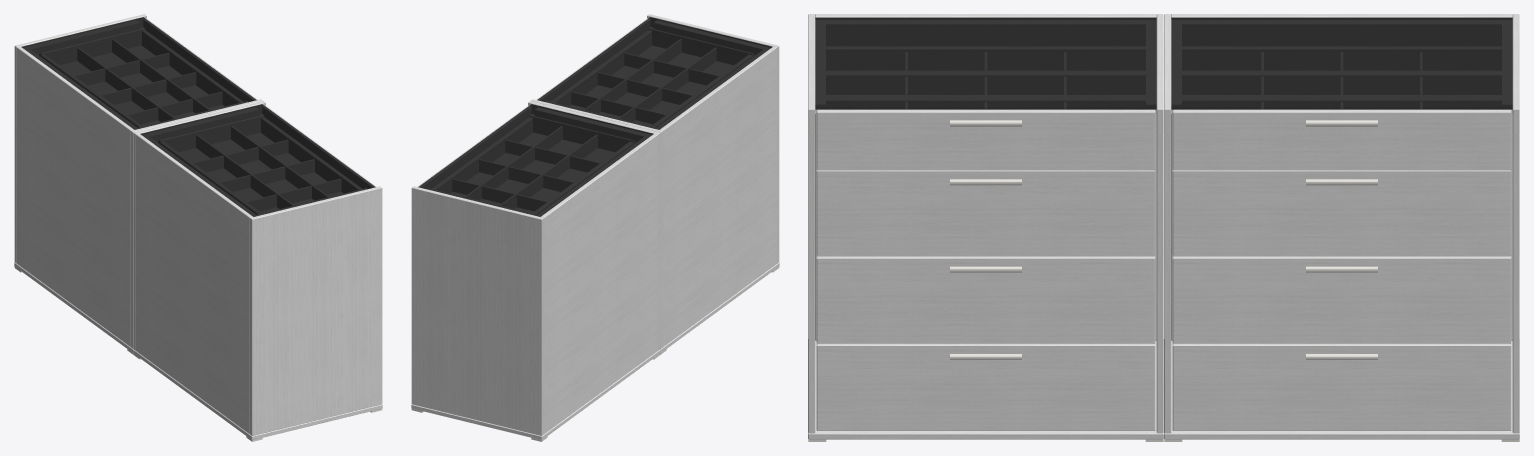
File: dr_island.glb
The picture shows the model from 3 angles, left to right: view 1: azimuth 30°, elevation 25°; view 2: azimuth 150°, elevation 25°; view 3: azimuth 270°, elevation 25°; orthographic projection. The views are drawn at different scales.
Parts seen in each view (by area): view 1: node_2565_StaticMeshComponent0, node_1451_StaticMeshComponent0, node_2563_StaticMeshComponent0, node_1479_StaticMeshComponent0, node_2591_StaticMeshComponent0, node_1461_StaticMeshComponent0, node_2573_StaticMeshComponent0, node_2564_StaticMeshComponent0, node_2568_StaticMeshComponent0, node_2580_StaticMeshComponent0, node_1468_StaticMeshComponent0, node_2566_StaticMeshComponent0 (+25 smaller); view 2: node_1455_StaticMeshComponent0, node_1451_StaticMeshComponent0, node_2563_StaticMeshComponent0, node_2591_StaticMeshComponent0, node_1479_StaticMeshComponent0, node_2573_StaticMeshComponent0, node_1461_StaticMeshComponent0, node_1454_StaticMeshComponent0, node_1456_StaticMeshComponent0, node_1470_StaticMeshComponent0, node_2582_StaticMeshComponent0, node_1452_StaticMeshComponent0 (+25 smaller); view 3: node_1479_StaticMeshComponent0, node_2591_StaticMeshComponent0, node_1509_StaticMeshComponent0, node_2621_StaticMeshComponent0, node_1497_2_StaticMeshComponent0, node_2609_StaticMeshComponent0, node_1485_StaticMeshComponent0, node_2597_StaticMeshComponent0, node_1465_StaticMeshComponent0, node_2577_StaticMeshComponent0, node_1463_StaticMeshComponent0, node_2575_StaticMeshComponent0 (+32 smaller).
Part boxes in pixels (<box>): node_2565_StaticMeshComponent0: <box>252,188,381,435</box>; node_1451_StaticMeshComponent0: <box>17,48,130,346</box>; node_2563_StaticMeshComponent0: <box>136,135,249,433</box>; node_1479_StaticMeshComponent0: <box>21,17,256,129</box>; node_2591_StaticMeshComponent0: <box>140,104,375,216</box>; node_1461_StaticMeshComponent0: <box>61,46,223,125</box>; node_2573_StaticMeshComponent0: <box>180,133,342,212</box>; node_2564_StaticMeshComponent0: <box>250,186,382,435</box>; node_2568_StaticMeshComponent0: <box>133,349,382,440</box>; node_2580_StaticMeshComponent0: <box>161,116,263,151</box>; node_1468_StaticMeshComponent0: <box>42,29,144,64</box>; node_2566_StaticMeshComponent0: <box>133,101,265,350</box>; node_1455_StaticMeshComponent0: <box>412,188,541,435</box>; node_1451_StaticMeshComponent0: <box>544,135,657,433</box>; node_2563_StaticMeshComponent0: <box>663,48,776,346</box>; node_2591_StaticMeshComponent0: <box>537,17,772,129</box>; node_1479_StaticMeshComponent0: <box>418,104,653,216</box>; node_2573_StaticMeshComponent0: <box>570,46,732,125</box>; node_1461_StaticMeshComponent0: <box>451,133,613,212</box>; node_1454_StaticMeshComponent0: <box>411,186,543,435</box>; node_1456_StaticMeshComponent0: <box>411,349,660,440</box>; node_1470_StaticMeshComponent0: <box>530,116,632,151</box>; node_2582_StaticMeshComponent0: <box>649,29,751,64</box>; node_1452_StaticMeshComponent0: <box>528,101,660,350</box>; node_1479_StaticMeshComponent0: <box>1171,17,1512,109</box>; node_2591_StaticMeshComponent0: <box>815,17,1156,109</box>; node_1509_StaticMeshComponent0: <box>1173,258,1510,343</box>; node_2621_StaticMeshComponent0: <box>817,258,1154,343</box>; node_1497_2_StaticMeshComponent0: <box>1173,171,1510,255</box>; node_2609_StaticMeshComponent0: <box>817,171,1154,255</box>; node_1485_StaticMeshComponent0: <box>1173,346,1510,430</box>; node_2597_StaticMeshComponent0: <box>817,346,1154,430</box>; node_1465_StaticMeshComponent0: <box>1173,112,1510,169</box>; node_2577_StaticMeshComponent0: <box>817,112,1154,169</box>; node_1463_StaticMeshComponent0: <box>1182,50,1501,69</box>; node_2575_StaticMeshComponent0: <box>826,50,1145,69</box>.
Size of the model in its own units: 0.5139 by 0.816 by 1.58.
4 materials, 1 textured.
